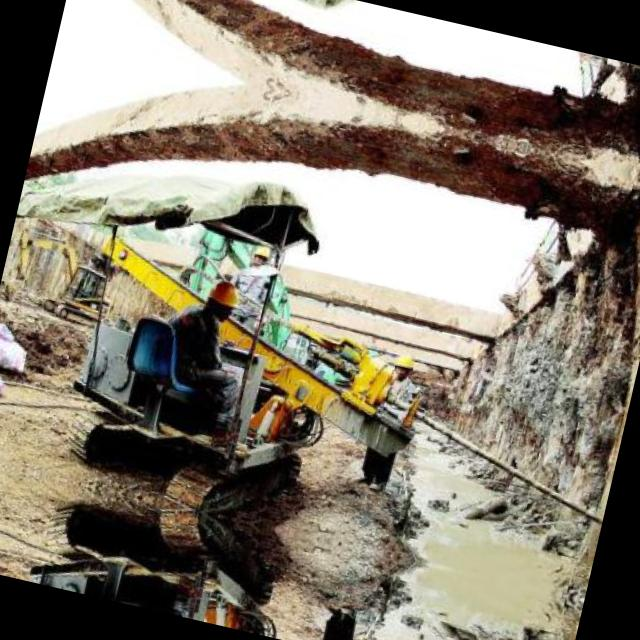helmet: (200, 271, 250, 328), (384, 346, 418, 382), (248, 239, 276, 273)
